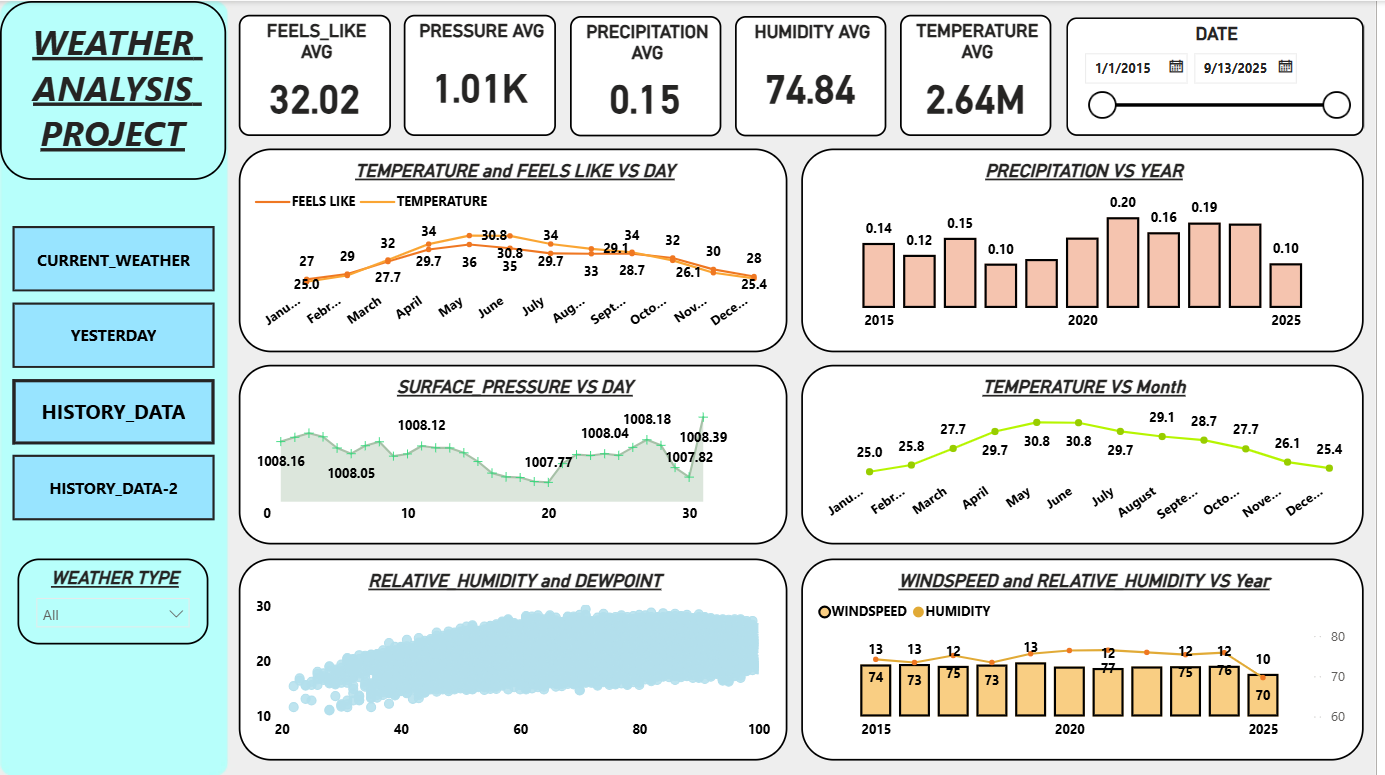

Layout of this report page (visuals, bound fields, positions):
{"tool":"powerbi","page":{"name":"HISTORY_DATA","canvas":[1280,720],"ordinal":2},"visuals":[{"type":"card","title":"FEELS_LIKE AVG","fields":{"Values":["Avg(HISTORY_DATA.APPARENT_TEMPERATURE)"]},"box":[222.1,12.8,141.9,112.8],"z":0},{"type":"card","title":"PRESSURE AVG","fields":{"Values":["Avg(HISTORY_DATA.SURFACE_PRESSURE)"]},"box":[375.6,12.8,141.9,112.8],"z":1000},{"type":"card","title":"PRECIPITATION AVG","fields":{"Values":["Avg(HISTORY_DATA.PRECIPITATION)"]},"box":[530.2,14,140.7,111.6],"z":2000},{"type":"card","title":"HUMIDITY AVG","fields":{"Values":["Avg(HISTORY_DATA.RELATIVE_HUMIDITY_2M)"]},"box":[683.7,14,140.7,111.6],"z":3000},{"type":"card","title":"TEMPERATURE AVG","fields":{"Values":["Sum(HISTORY_DATA.TEMPERATURE_2M)"]},"box":[837.2,12.8,140.7,112.8],"z":4000},{"type":"slicer","title":"DATE","fields":{"Values":["HISTORY_DATA.DATE"]},"box":[991.9,15.1,276.7,110.5],"z":5000},{"type":"lineChart","title":"TEMPERATURE and FEELS LIKE VS  DAY","fields":{"Category":["HISTORY_DATA.DATE.Variation.Date Hierarchy.Year","HISTORY_DATA.DATE.Variation.Date Hierarchy.Month","HISTORY_DATA.DATE.Variation.Date Hierarchy.Day"],"Y":["Avg(HISTORY_DATA.APPARENT_TEMPERATURE)"],"Y2":["Avg(HISTORY_DATA.TEMPERATURE_2M)"]},"box":[222.3,137.2,510.5,189.4],"z":6000},{"type":"columnChart","title":"PRECIPITATION VS YEAR","fields":{"Category":["HISTORY_DATA.DATE.Variation.Date Hierarchy.Year","HISTORY_DATA.DATE.Variation.Date Hierarchy.Month","HISTORY_DATA.DATE.Variation.Date Hierarchy.Day"],"Y":["Avg(HISTORY_DATA.PRECIPITATION)"]},"box":[745.1,137.2,522.8,189.4],"z":7000},{"type":"areaChart","title":"SURFACE_PRESSURE  VS DAY","fields":{"Category":["HISTORY_DATA.DATE.Variation.Date Hierarchy.Day"],"Y":["Avg(HISTORY_DATA.SURFACE_PRESSURE)"]},"box":[222.3,338.9,510.5,167.4],"z":8000},{"type":"lineChart","title":"TEMPERATURE VS Month","fields":{"Category":["HISTORY_DATA.DATE.Variation.Date Hierarchy.Year","HISTORY_DATA.DATE.Variation.Date Hierarchy.Month","HISTORY_DATA.DATE.Variation.Date Hierarchy.Day"],"Y":["Avg(HISTORY_DATA.TEMPERATURE_2M)"]},"box":[745.1,338.9,522.8,167.4],"z":9000},{"type":"scatterChart","title":"RELATIVE_HUMIDITY and DEWPOINT","fields":{"X":["HISTORY_DATA.RELATIVE_HUMIDITY_2M"],"Y":["HISTORY_DATA.DEWPOINT_2M"]},"box":[222.3,518.7,510.5,188],"z":10000},{"type":"lineClusteredColumnComboChart","title":"WINDSPEED and RELATIVE_HUMIDITY VS Year","fields":{"Category":["HISTORY_DATA.DATE.Variation.Date Hierarchy.Year","HISTORY_DATA.DATE.Variation.Date Hierarchy.Month","HISTORY_DATA.DATE.Variation.Date Hierarchy.Day"],"Y":["Avg(HISTORY_DATA.WINDSPEED_10M)"],"Y2":["Avg(HISTORY_DATA.RELATIVE_HUMIDITY_2M)"]},"box":[745.1,518.7,522.8,188],"z":11000},{"type":"textbox","box":[0,0,210.5,166.3],"z":12000},{"type":"slicer","title":"WEATHER TYPE","fields":{"Values":["HISTORY_DATA.WEATHER_TYPE"]},"box":[16.3,518.6,177.9,80.2],"z":13000},{"type":"pageNavigator","box":[11.6,209.3,188.4,274.4],"z":14000}]}

Visuals, with their boxes in screenshot pixels (x1, y1, x2, y2), scaled from the page's 1280x720 canvas onto the 1385x775 screenshot:
"FEELS_LIKE AVG" card: BBox(240, 14, 394, 135)
"PRESSURE AVG" card: BBox(406, 14, 560, 135)
"PRECIPITATION AVG" card: BBox(574, 15, 726, 135)
"HUMIDITY AVG" card: BBox(740, 15, 892, 135)
"TEMPERATURE AVG" card: BBox(906, 14, 1058, 135)
"DATE" slicer: BBox(1073, 16, 1373, 135)
"TEMPERATURE and FEELS LIKE VS  DAY" lineChart: BBox(241, 148, 793, 352)
"PRECIPITATION VS YEAR" columnChart: BBox(806, 148, 1372, 352)
"SURFACE_PRESSURE  VS DAY" areaChart: BBox(241, 365, 793, 545)
"TEMPERATURE VS Month" lineChart: BBox(806, 365, 1372, 545)
"RELATIVE_HUMIDITY and DEWPOINT" scatterChart: BBox(241, 558, 793, 761)
"WINDSPEED and RELATIVE_HUMIDITY VS Year" lineClusteredColumnComboChart: BBox(806, 558, 1372, 761)
textbox: BBox(0, 0, 228, 179)
"WEATHER TYPE" slicer: BBox(18, 558, 210, 645)
pageNavigator: BBox(13, 225, 216, 521)
